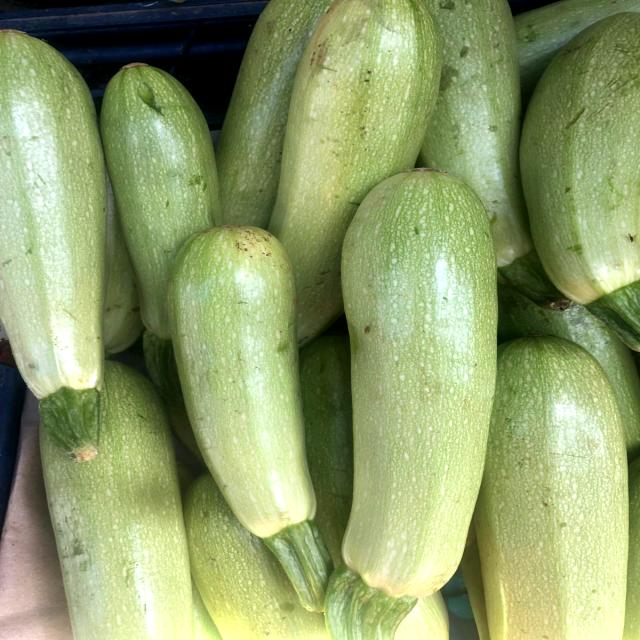zucchini: (316, 149, 516, 640), (165, 210, 352, 612), (0, 14, 140, 464)
